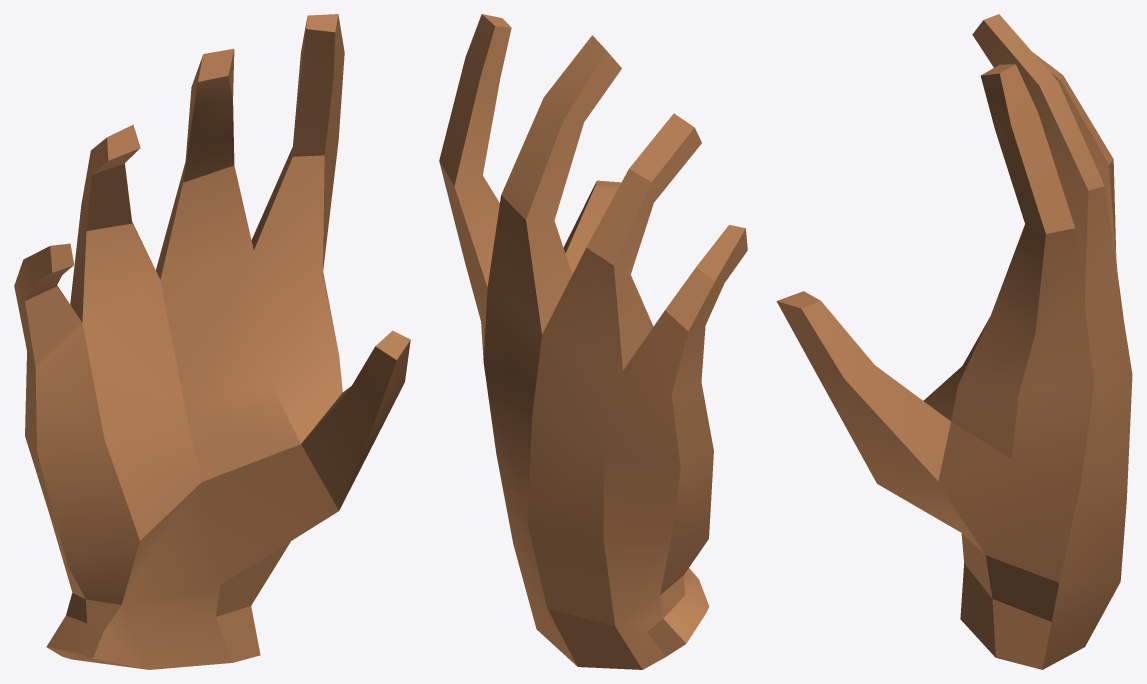
File: hand.glb
3 views of the same model, side by side, from view 1: azimuth 30°, elevation 25°; view 2: azimuth 150°, elevation 25°; view 3: azimuth 270°, elevation 25° (orthographic). The views are drawn at different scales.
Parts seen in each view (by area): view 1: bodyMesh.001_lowman_toes.030; view 2: bodyMesh.001_lowman_toes.030; view 3: bodyMesh.001_lowman_toes.030.
Boxes of the visible parts, x1,y1,x2,y2 form: bodyMesh.001_lowman_toes.030: (14, 14, 410, 669); bodyMesh.001_lowman_toes.030: (439, 14, 747, 669); bodyMesh.001_lowman_toes.030: (776, 14, 1132, 669).
Size of the model in its own units: 1.31 by 2.58 by 1.29.
Materials: 1 (1 with a texture image).
